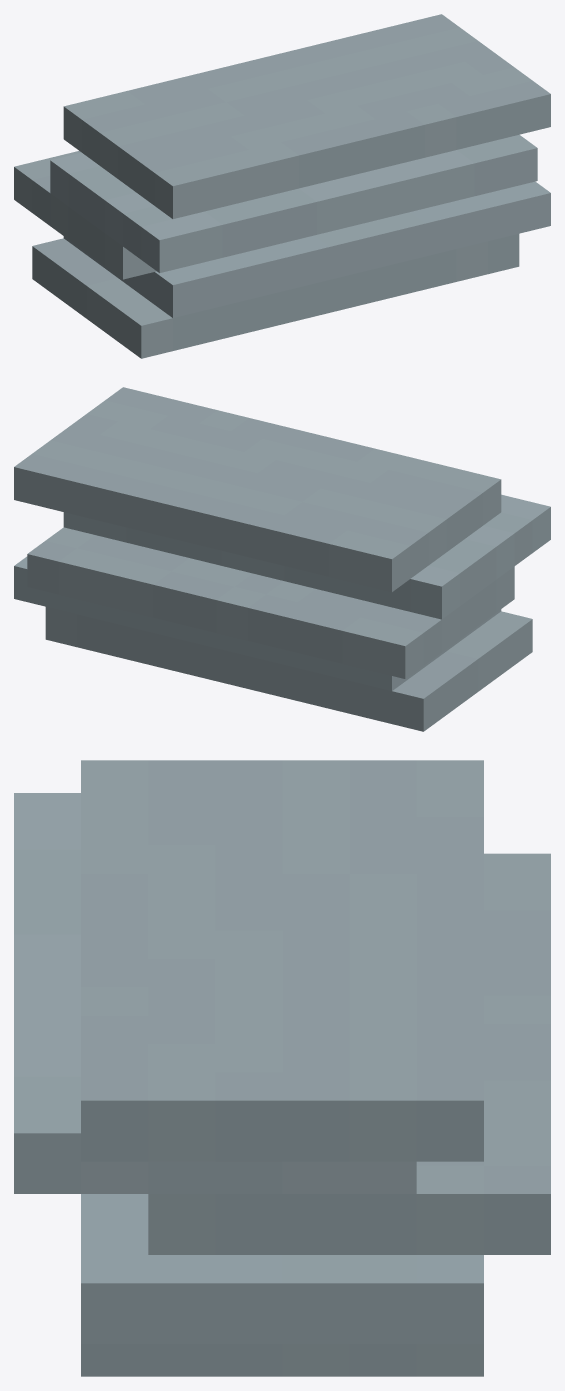
The model's file is wood.obj.
The picture shows the model from 3 angles, top to bottom: view 1: azimuth 30°, elevation 25°; view 2: azimuth 150°, elevation 25°; view 3: azimuth 270°, elevation 25°; orthographic projection. The views are drawn at different scales.
Size of the model in its own units: 1.3 by 0.5 by 0.8.
